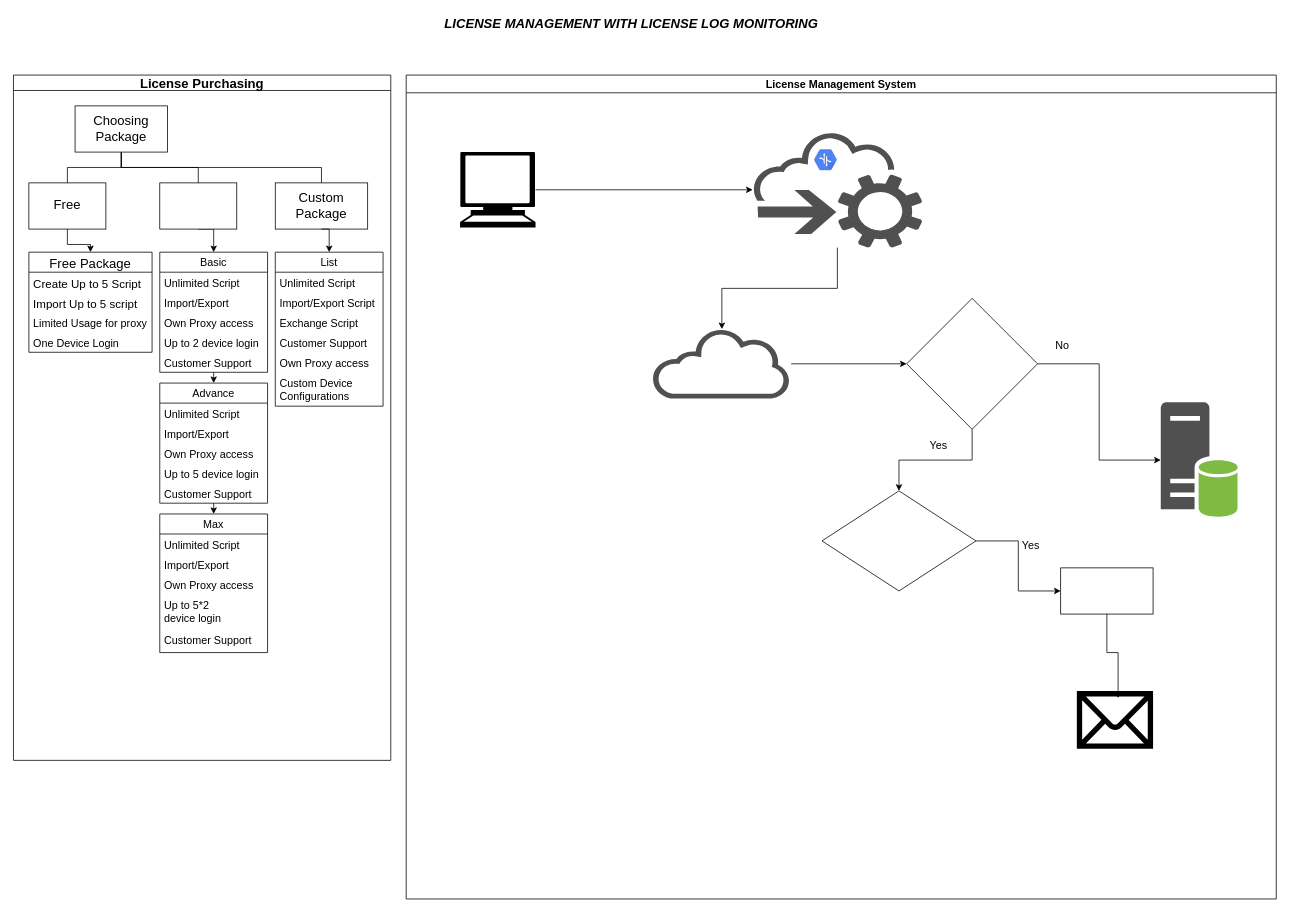
Some shapes in this 1290 by 912 pixel diagram are drawn without their labels. Each missing label, with the centre of its shape:
Create Log: point 1106,590
Is Suspisios: point 898,540
Purchable Package: point 198,205
Traffic Director: point 825,159
Validate LIC And Monitor User Activity In Lic: point 972,363
